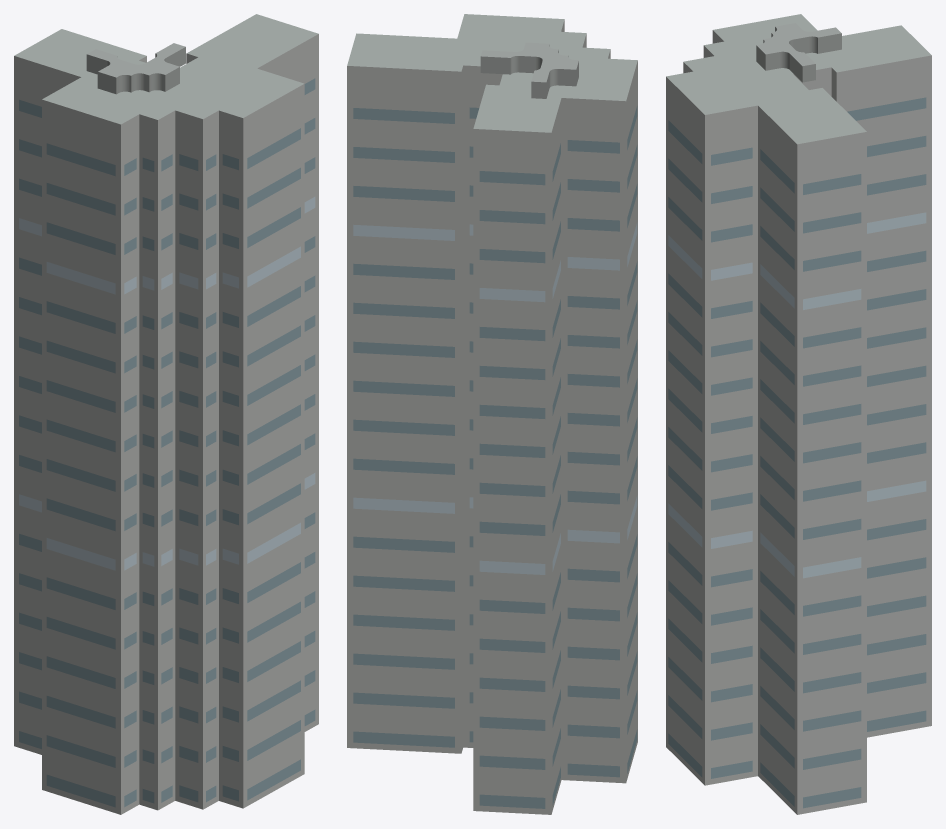
File: fallback-banpo-riche-107.glb
3 renders of one model, left to right at view 1: azimuth 30°, elevation 25°; view 2: azimuth 150°, elevation 25°; view 3: azimuth 270°, elevation 25°, orthographic. The views are drawn at different scales.
Visible parts, largest first — view 1: fallback-banpo-riche-107; view 2: fallback-banpo-riche-107; view 3: fallback-banpo-riche-107.
Boxes of the visible parts, x1,y1,x2,y2 form: fallback-banpo-riche-107: [14, 14, 318, 814]; fallback-banpo-riche-107: [347, 14, 637, 814]; fallback-banpo-riche-107: [666, 14, 931, 814].
Bounding box in the file's own units: 41.11 × 101 × 35.43.
